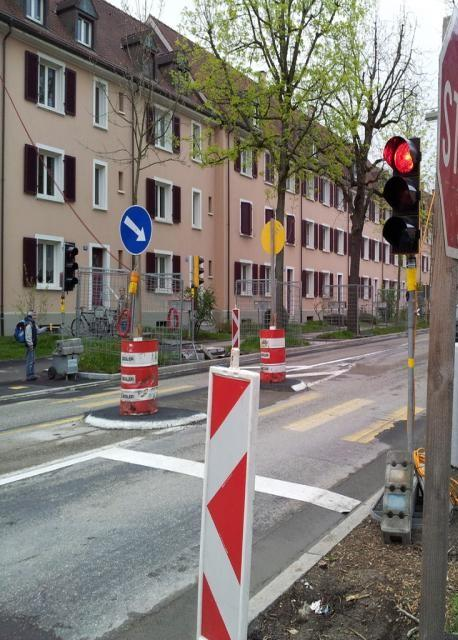red_light: (384, 135, 422, 253)
